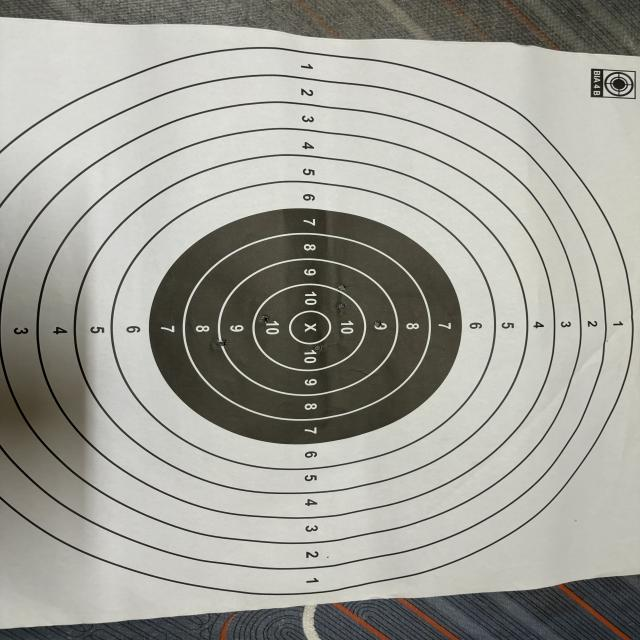bullet: (212, 340, 224, 348), (336, 300, 344, 312), (337, 283, 346, 292), (260, 316, 268, 324), (220, 340, 228, 347), (314, 345, 322, 352)
target: (0, 18, 640, 626)
